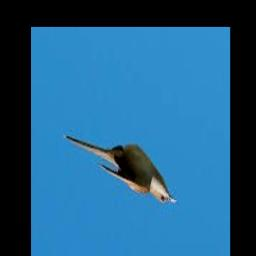Cuckoo: (65, 134, 177, 204)
